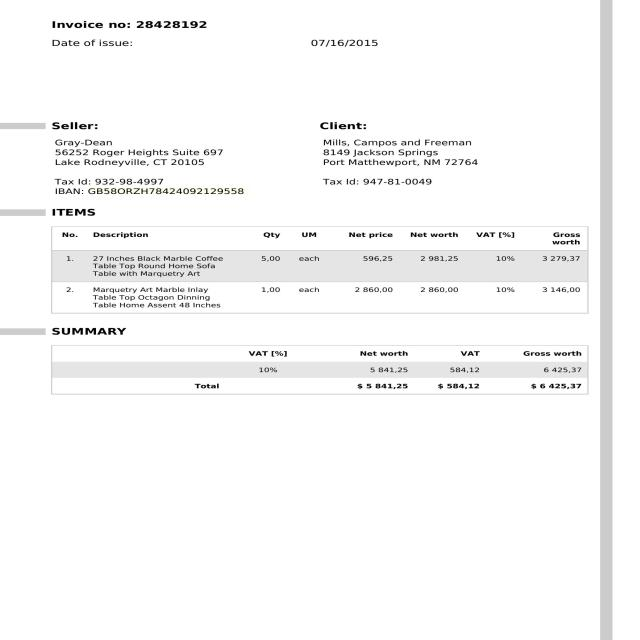customer_address: (320, 148, 515, 170)
customer_name: (322, 136, 497, 148)
invoice_date: (306, 37, 382, 49)
invoice_number: (133, 16, 230, 35)
invoice_subtotal: (354, 379, 422, 394)
invoice_total: (527, 380, 584, 392)
item_description: (83, 252, 235, 308)
item_quantity: (253, 253, 290, 305)
item_total_price: (418, 252, 472, 305)
item_unit_price: (364, 251, 396, 305)
supplier_address: (55, 148, 252, 172)
supplier_name: (53, 137, 210, 147)
tax_amount: (429, 378, 485, 392)
tax_rate: (252, 363, 283, 377)
